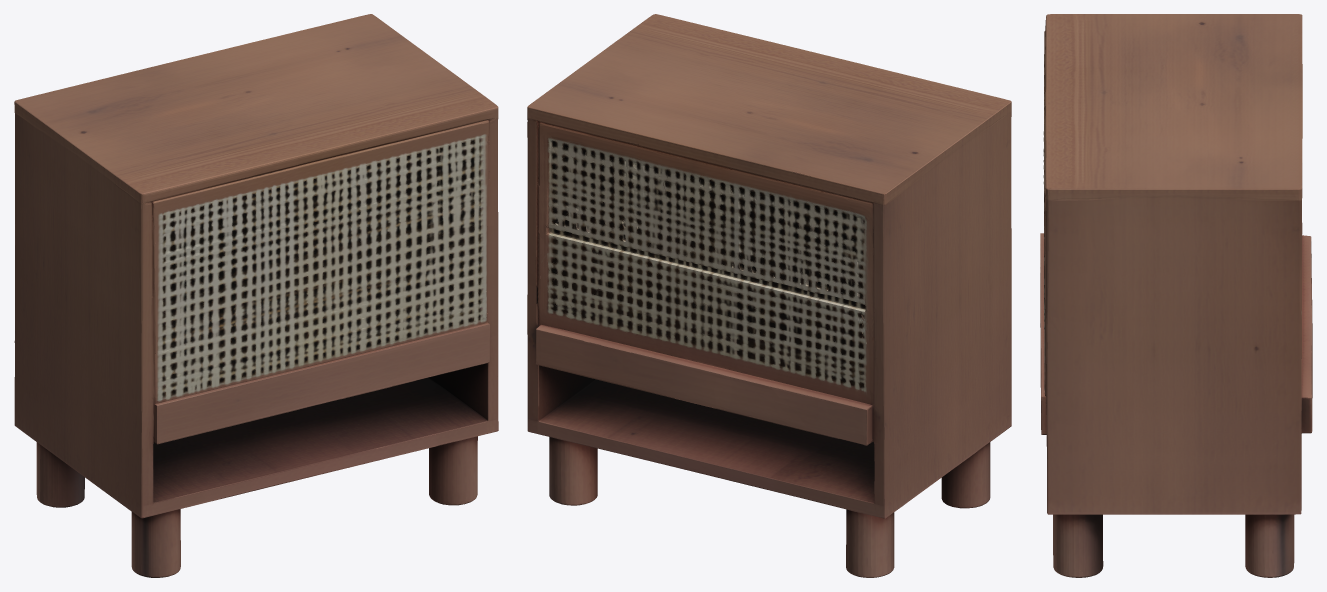
The picture shows the model from 3 angles, left to right: view 1: azimuth 30°, elevation 25°; view 2: azimuth 150°, elevation 25°; view 3: azimuth 270°, elevation 25°; orthographic projection.
Visible parts, largest first — view 1: world; view 2: world; view 3: world.
Part boxes in pixels (x1=…): world: x1=14, y1=14, x2=498, y2=577; world: x1=527, y1=14, x2=1011, y2=577; world: x1=1040, y1=14, x2=1312, y2=577.
Bounding box in the file's own units: 0.955 × 1 × 0.6267.
Materials: 1 (1 with a texture image).
